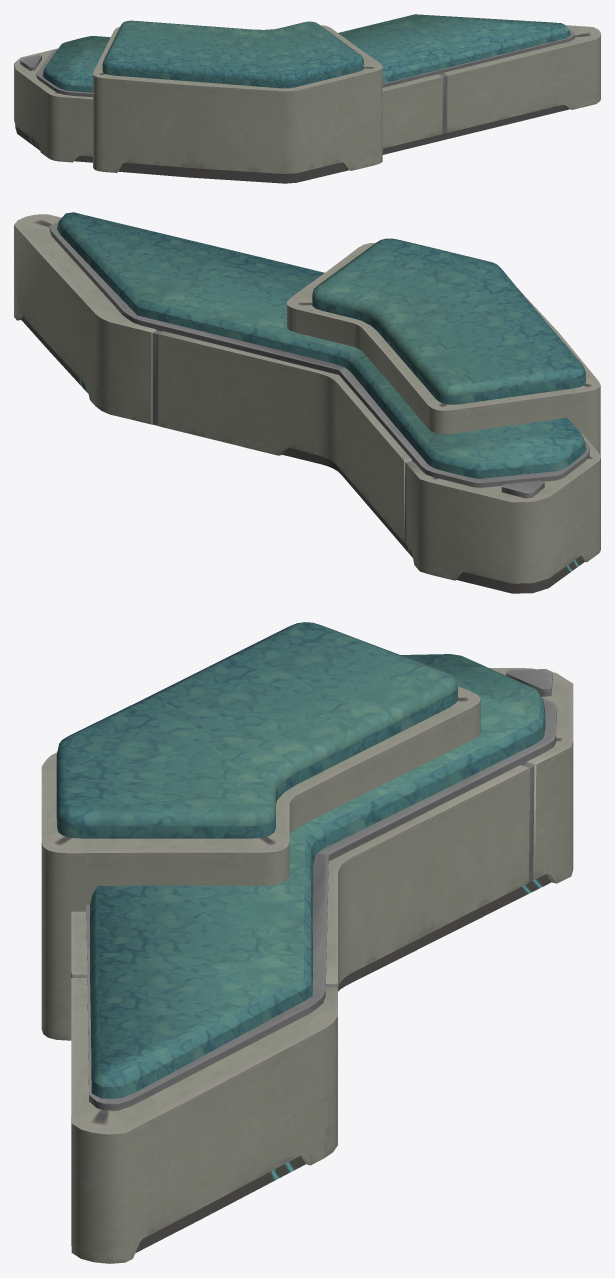
The model's file is pref_sm_city_parterre10_snow_lv3.fbx.
The picture shows the model from 3 angles, top to bottom: view 1: azimuth 30°, elevation 25°; view 2: azimuth 150°, elevation 25°; view 3: azimuth 270°, elevation 25°; orthographic projection. The views are drawn at different scales.
Parts seen in each view (by area): view 1: pref_sm_city_parterre10_snow_lv3; view 2: pref_sm_city_parterre10_snow_lv3; view 3: pref_sm_city_parterre10_snow_lv3.
Boxes of the visible parts, x1,y1,x2,y2 form: pref_sm_city_parterre10_snow_lv3: (14, 14, 600, 183); pref_sm_city_parterre10_snow_lv3: (14, 212, 600, 593); pref_sm_city_parterre10_snow_lv3: (41, 622, 573, 1263).
Size of the model in its own units: 8.9 by 1.87 by 4.29.
